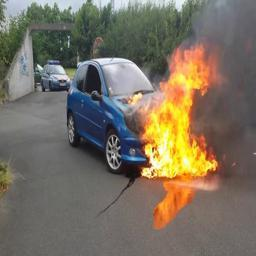fire: (128, 43, 225, 178)
